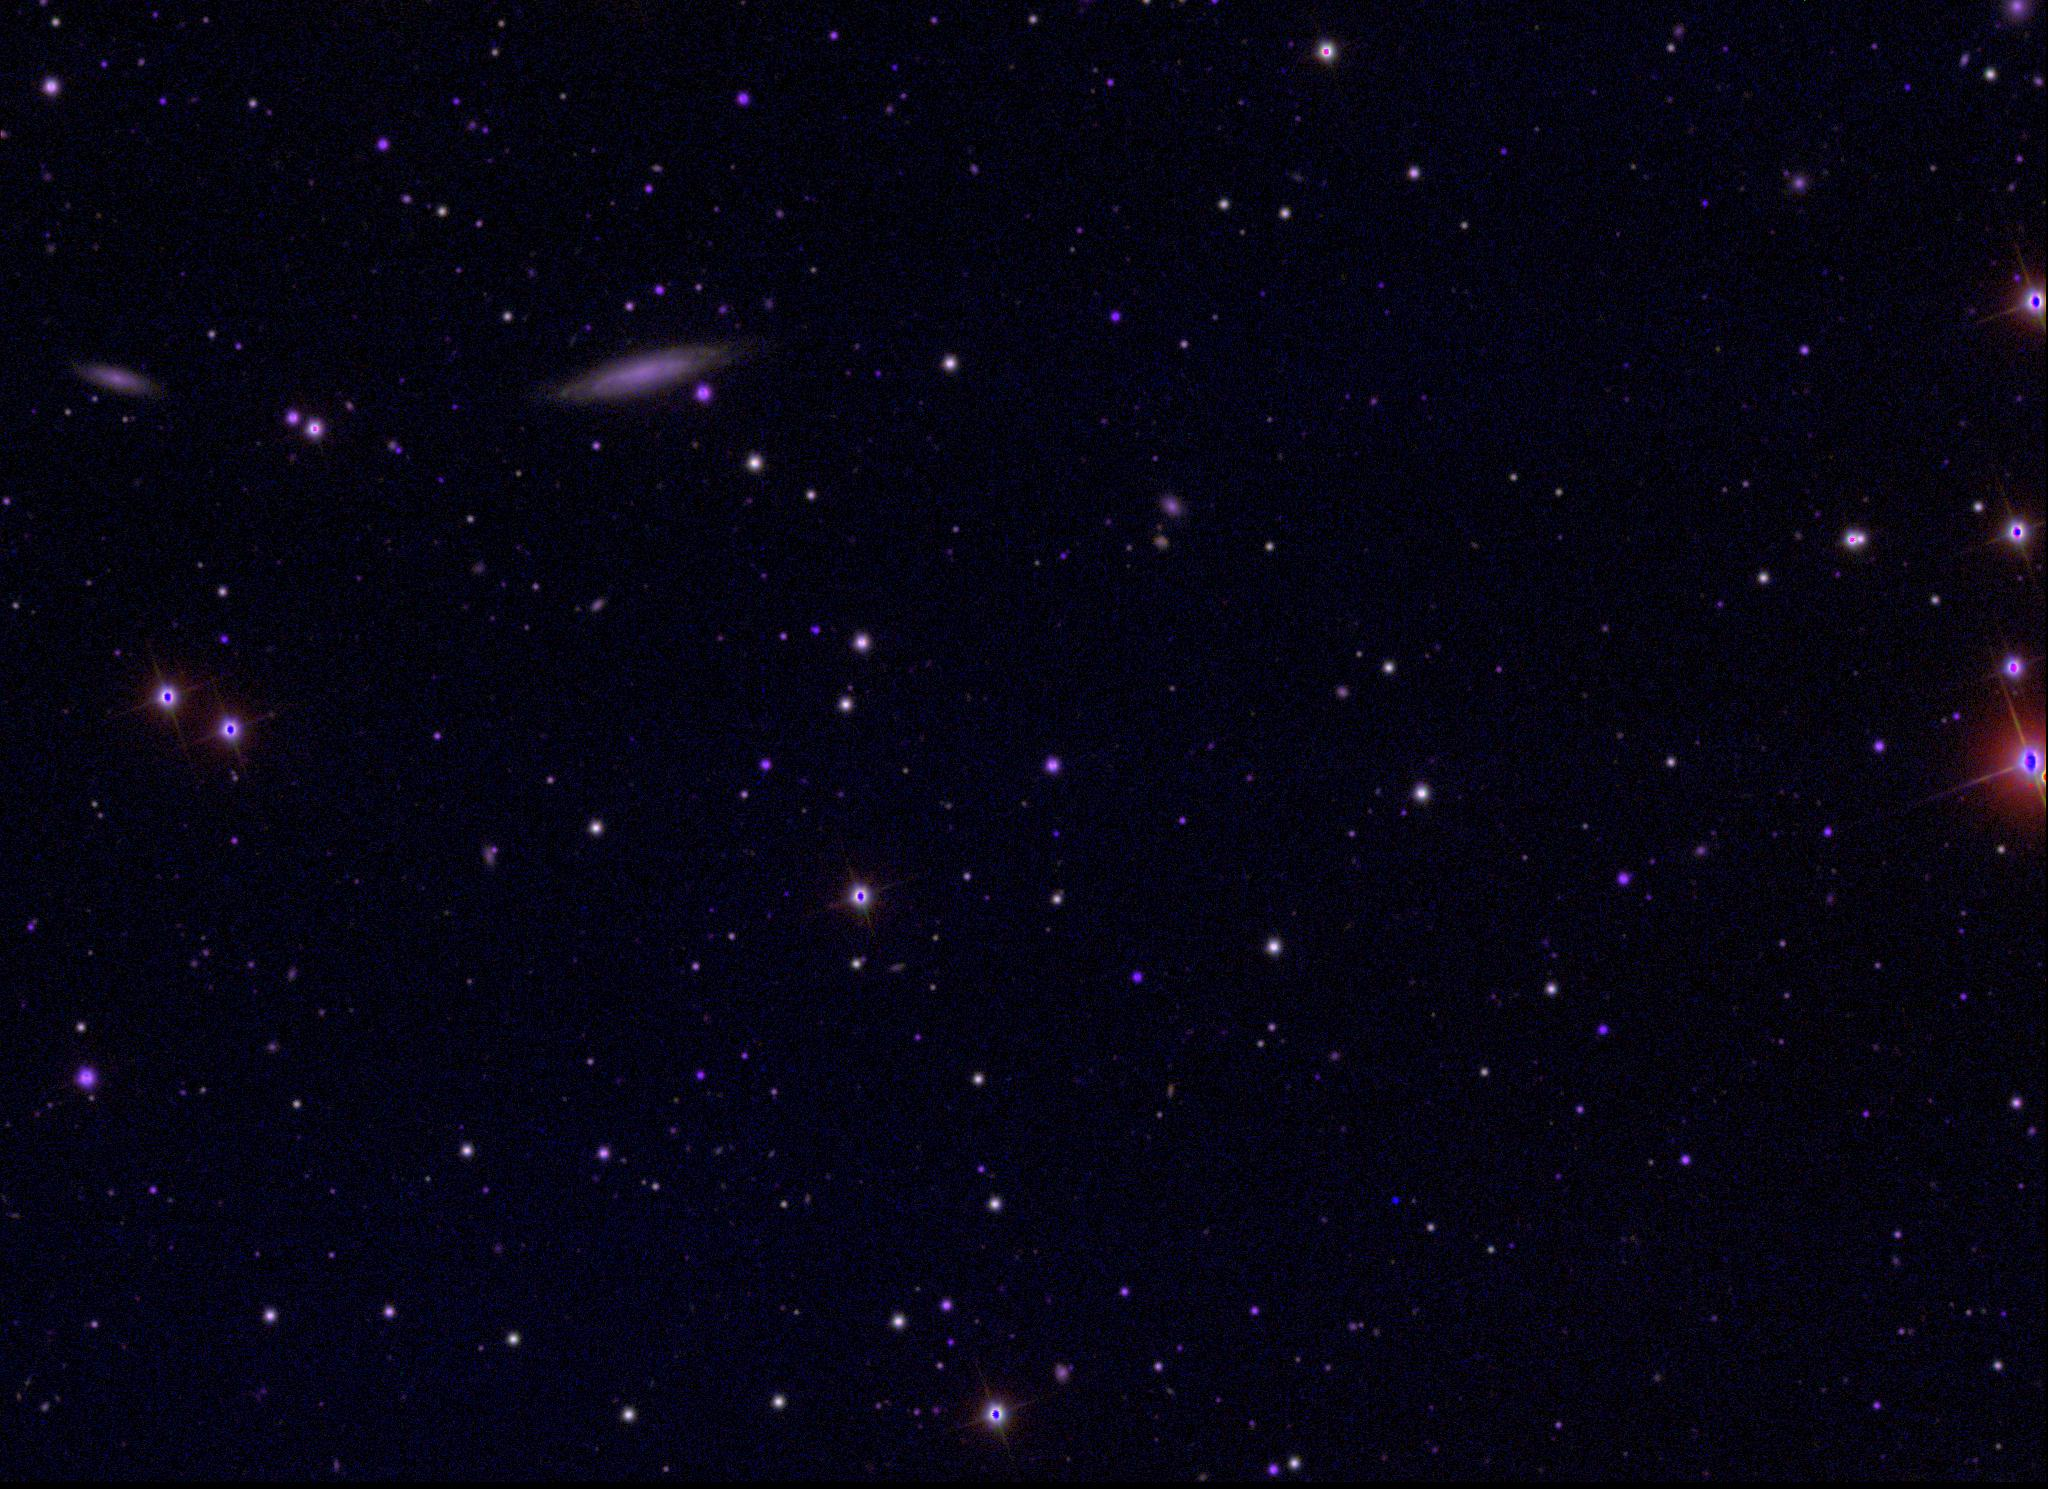L: (1388, 1196, 1402, 1211)
